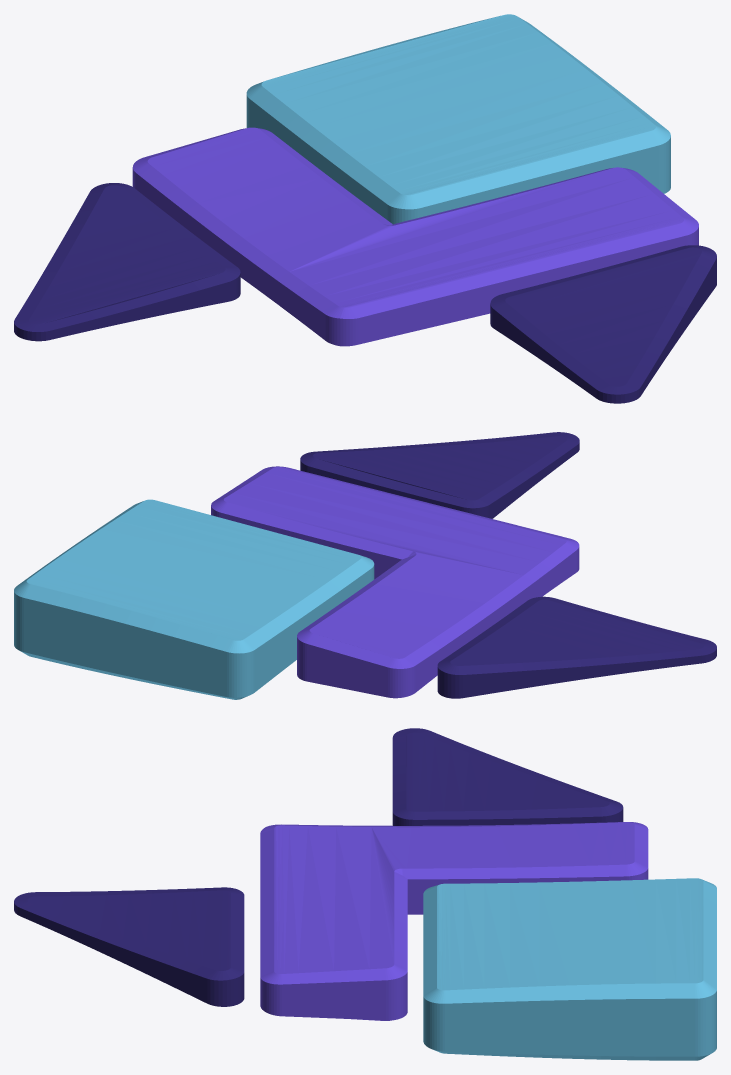
The model's file is localstack.glb.
3 renders of one model, top to bottom at view 1: azimuth 30°, elevation 25°; view 2: azimuth 150°, elevation 25°; view 3: azimuth 270°, elevation 25°, orthographic. The views are drawn at different scales.
Visible parts, largest first — view 1: Curve.012, Curve.011, Curve.010; view 2: Curve.011, Curve.012, Curve.010; view 3: Curve.011, Curve.012, Curve.010.
Boxes of the visible parts, x1=… form: Curve.012: x1=132, y1=127, x2=698, y2=346; Curve.011: x1=246, y1=14, x2=670, y2=224; Curve.010: x1=14, y1=183, x2=716, y2=403; Curve.011: x1=14, y1=499, x2=374, y2=699; Curve.012: x1=211, y1=466, x2=579, y2=698; Curve.010: x1=300, y1=432, x2=716, y2=698; Curve.011: x1=423, y1=878, x2=716, y2=1060; Curve.012: x1=260, y1=822, x2=648, y2=1020; Curve.010: x1=14, y1=728, x2=623, y2=1006.
Bounding box in the file's own units: 2.05 × 0.25 × 2.06.
